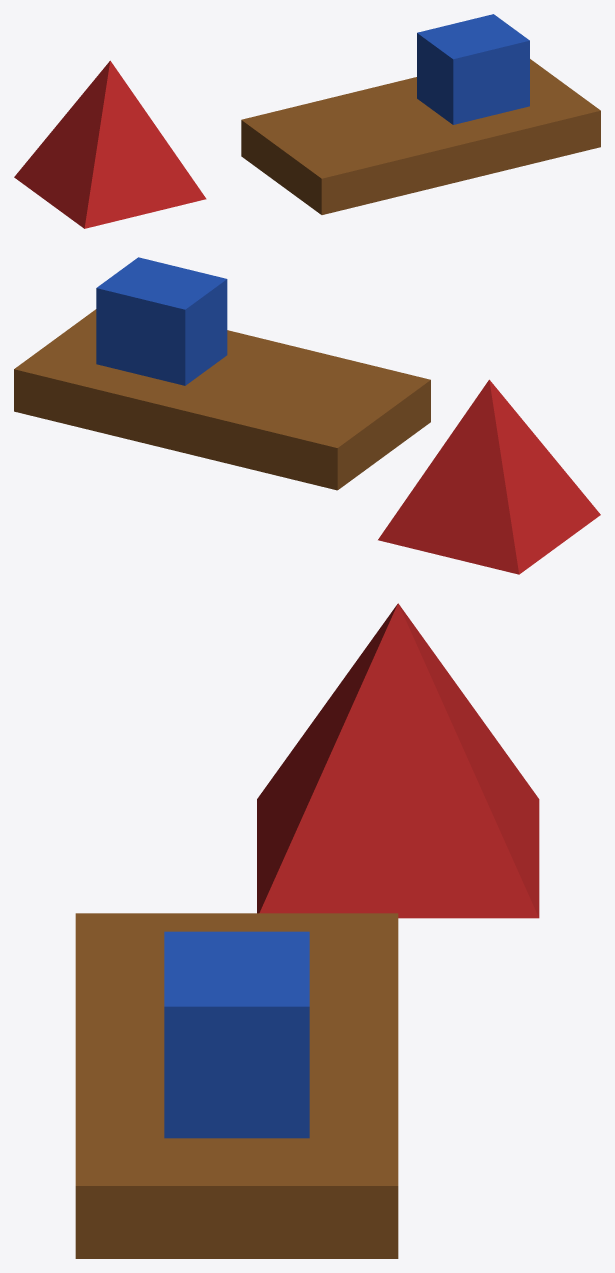
3 renders of one model, top to bottom at view 1: azimuth 30°, elevation 25°; view 2: azimuth 150°, elevation 25°; view 3: azimuth 270°, elevation 25°, orthographic. The views are drawn at different scales.
Parts seen in each view (by area): view 1: Table, Pyramid, BoxOnTable; view 2: Table, Pyramid, BoxOnTable; view 3: Table, Pyramid, BoxOnTable.
Boxes of the visible parts, left/top/right/bottom form: Table: left=241, top=59, right=600, bottom=214; Pyramid: left=14, top=60, right=206, bottom=228; BoxOnTable: left=417, top=14, right=529, bottom=124; Table: left=14, top=309, right=430, bottom=490; Pyramid: left=378, top=379, right=600, bottom=574; BoxOnTable: left=96, top=257, right=227, bottom=385; Table: left=75, top=913, right=398, bottom=1258; Pyramid: left=257, top=603, right=539, bottom=918; BoxOnTable: left=164, top=931, right=309, bottom=1138.
Bounding box in the file's own units: 2.7 × 0.7 × 1.15.
